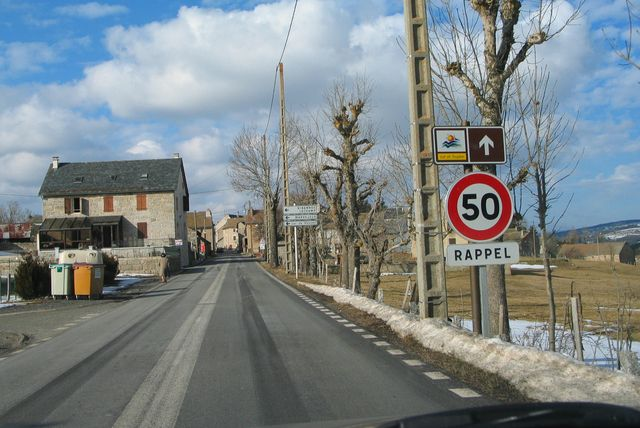Speed_limit_50km: (444, 172, 515, 243)
